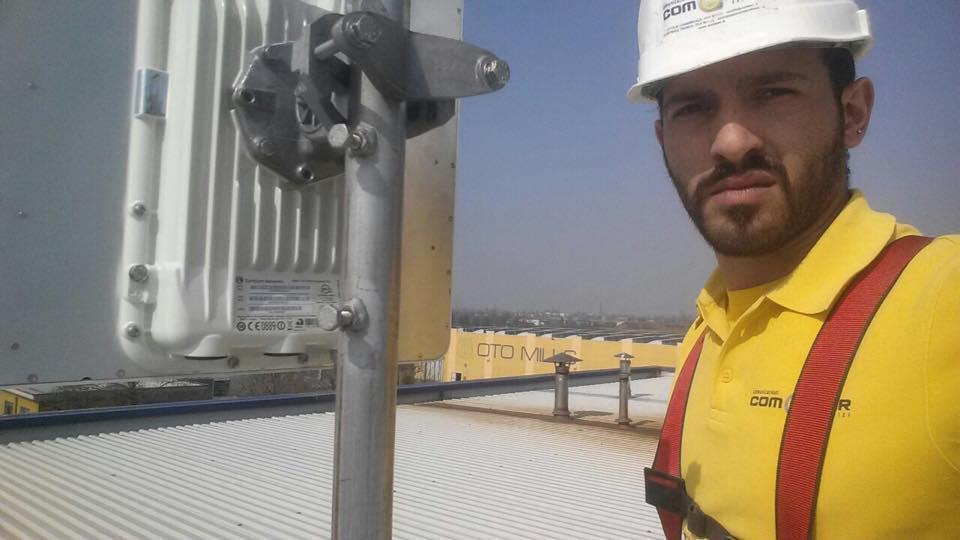helmet: (624, 0, 873, 99)
